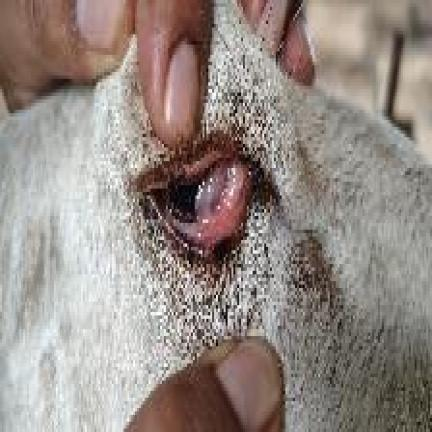goat-eye-anemia-22222222: (195, 165, 251, 240)
